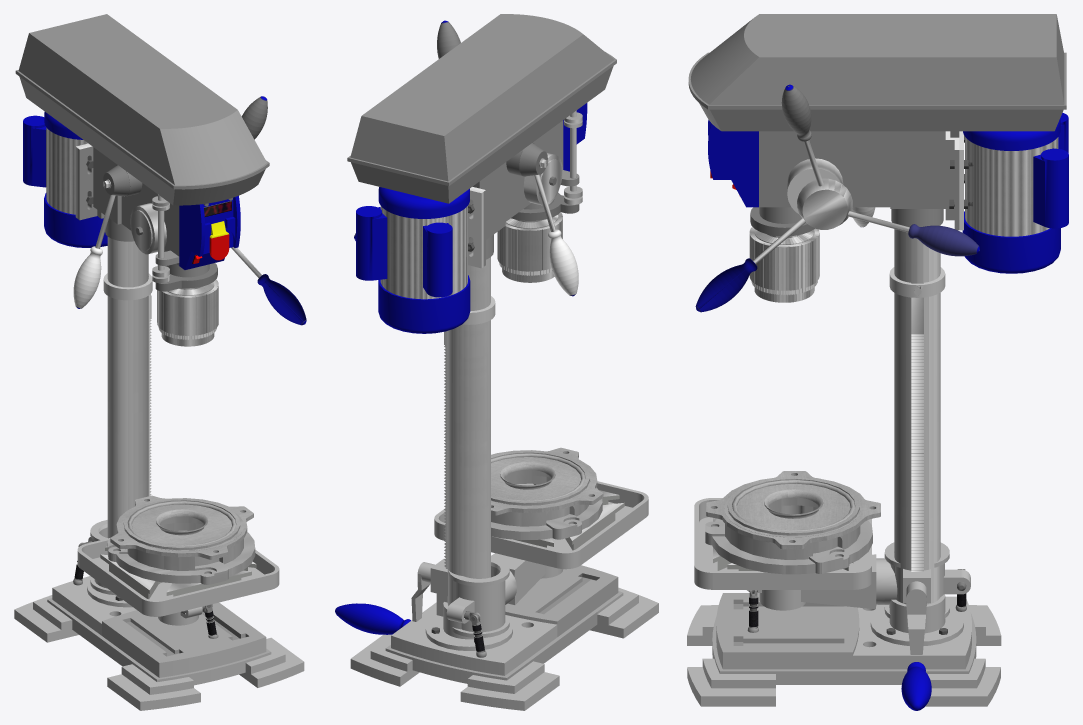
3 views of the same model, side by side, from view 1: azimuth 30°, elevation 25°; view 2: azimuth 150°, elevation 25°; view 3: azimuth 270°, elevation 25° (orthographic). The views are drawn at different scales.
Visible parts, largest first — view 1: 01, 04, 1, 1.001, 03, 02.001; view 2: 01, 04, 1, 1.001, 03, 02.001; view 3: 01, 04, 1, 02.001, 1.001, 03.
Part boxes in pixels (box(x1,y1,x2,y2)): 01: box(14, 14, 304, 710); 04: box(73, 520, 279, 638); 1: box(110, 495, 253, 559); 1.001: box(107, 509, 255, 584); 03: box(157, 279, 218, 346); 02.001: box(231, 96, 306, 325); 01: box(347, 14, 658, 710); 04: box(335, 481, 648, 657); 1: box(491, 447, 603, 515); 1.001: box(491, 469, 602, 540); 03: box(497, 212, 562, 282); 02.001: box(354, 20, 460, 240); 01: box(687, 14, 1068, 706); 04: box(694, 498, 970, 710); 1: box(706, 471, 880, 549); 02.001: box(695, 84, 979, 312); 1.001: box(705, 497, 872, 574); 03: box(749, 226, 819, 302).
Bounding box in the file's own units: 485 × 1225 × 676.
37 materials, 10 textured.
